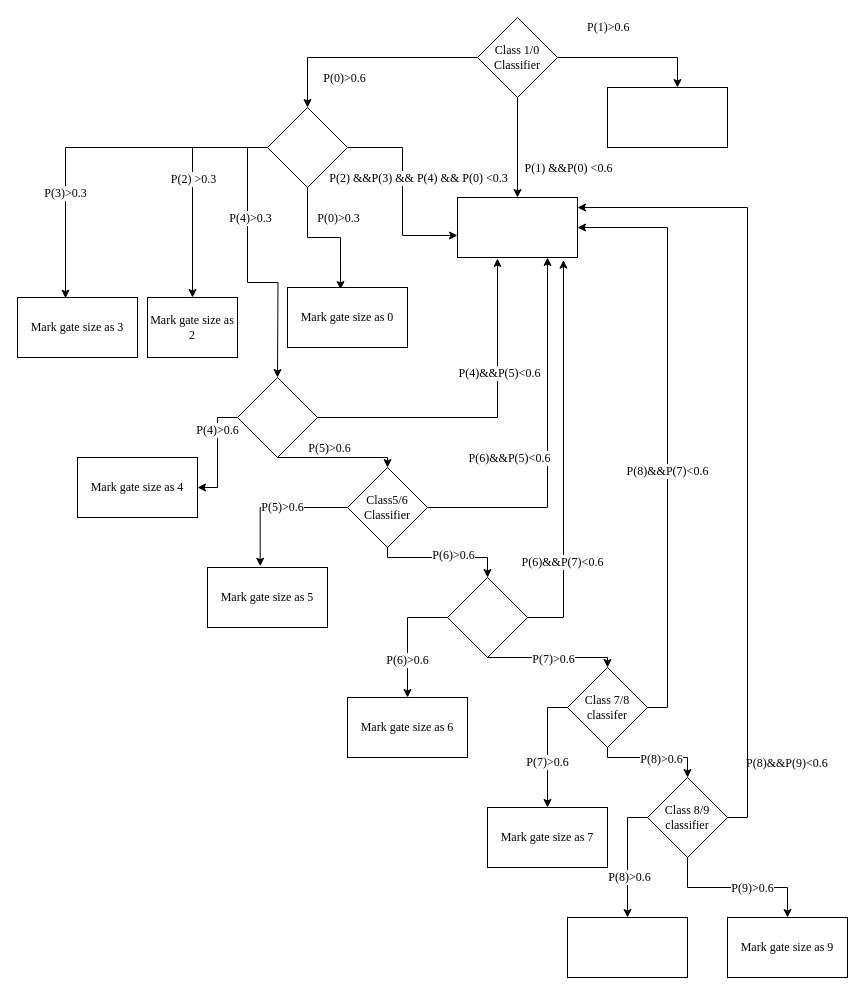
The diagram is 865 pixels wide and 995 high, and some of its shapes have lost their labels. Here are the shapes that lost their labels. From the top down, the centre of each, then its label:
At point 667,117: "Mark gate size as 1".
At point 307,147: "Class 0234 Classifier".
At point 517,227: "Mark gate as unsure".
At point 277,417: "Class4/5 Classifier".
At point 487,617: "Class 6/7 Classifier".
At point 627,947: "Mark gate size as 8".
